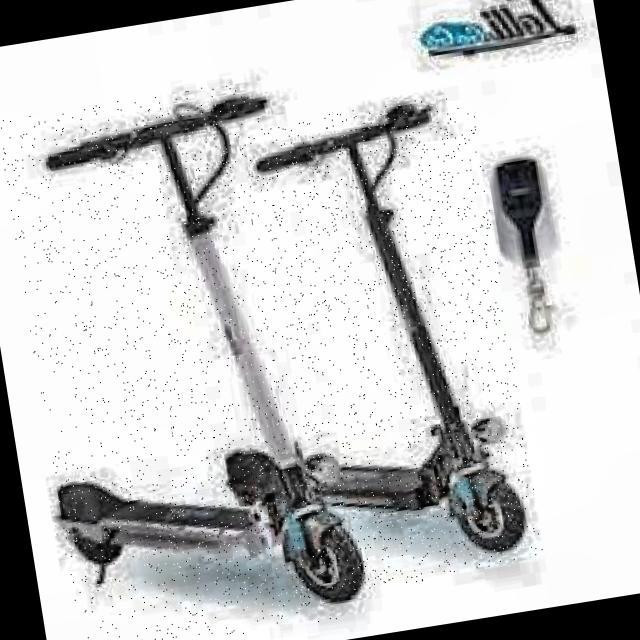bike: (57, 449, 364, 602)
